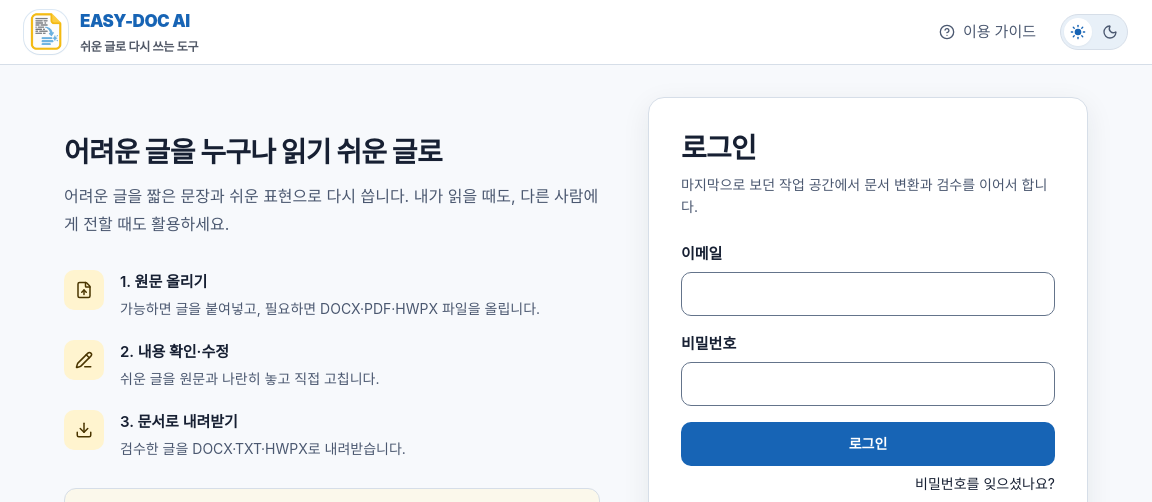
Scenario: 로그인 화면 › 비밀번호가 짧으면 길이 기준을 알린다
The width and height of the screenshot is (1152, 502).
Type "user@example.com" into the field labelled "이메일" at [868, 294], box 681,272 -> 1055,316
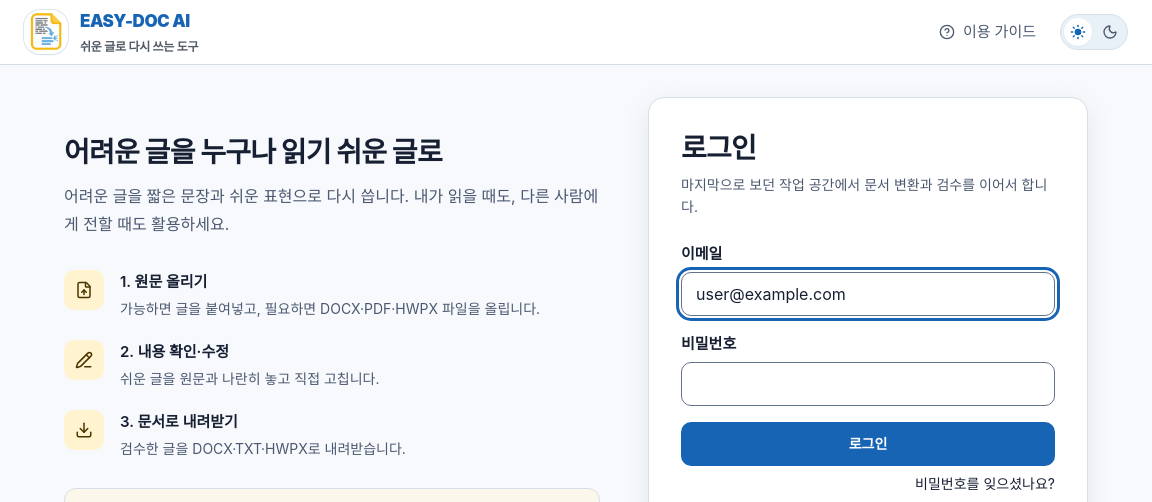
Type "short" into the password field labelled "비밀번호" at [868, 384], box 681,362 -> 1055,406
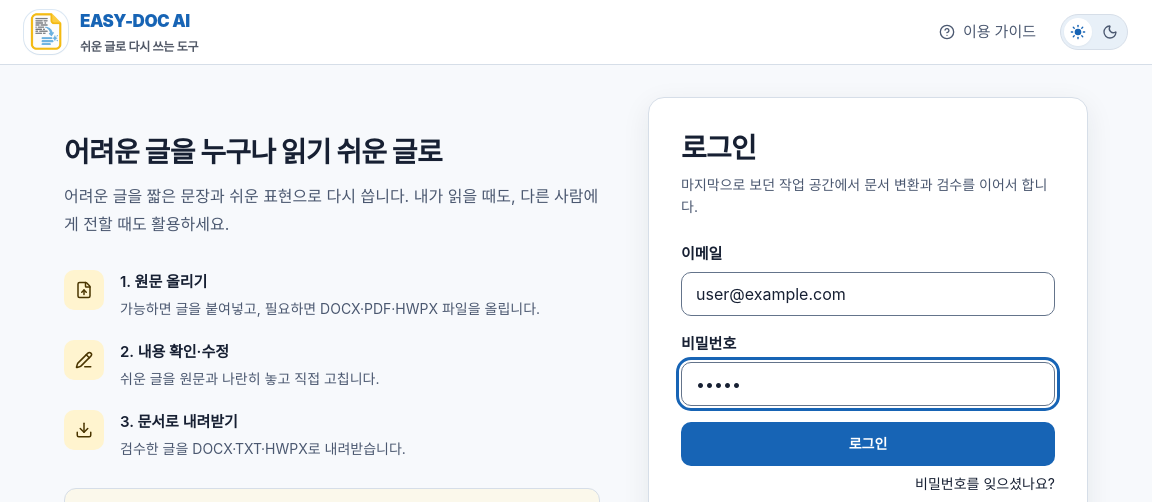
Click the button "로그인" at [868, 444], box 681,422 -> 1055,466
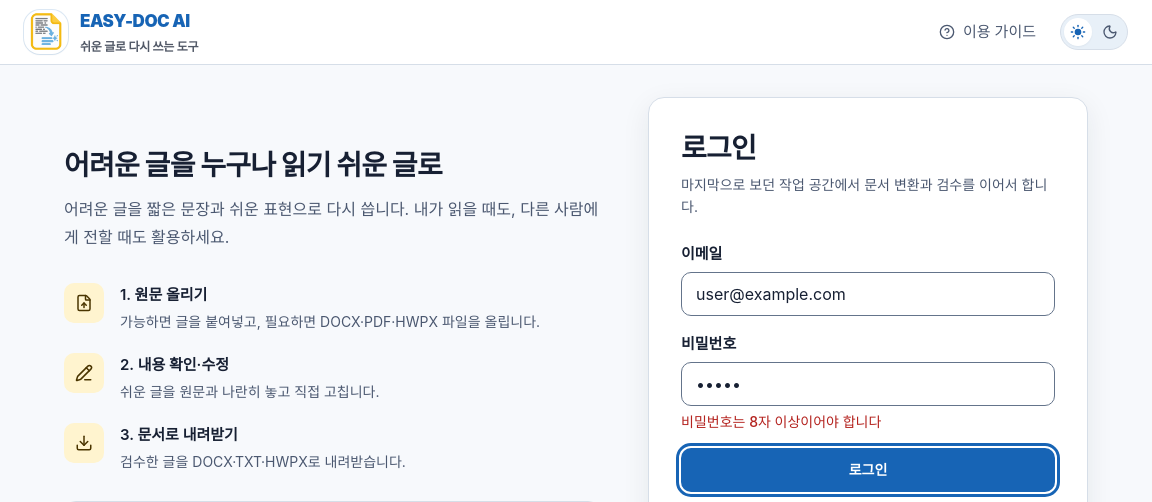
Now the text "비밀번호는 8자 이상이어야 합니다" is shown, box 681,413 -> 881,430
